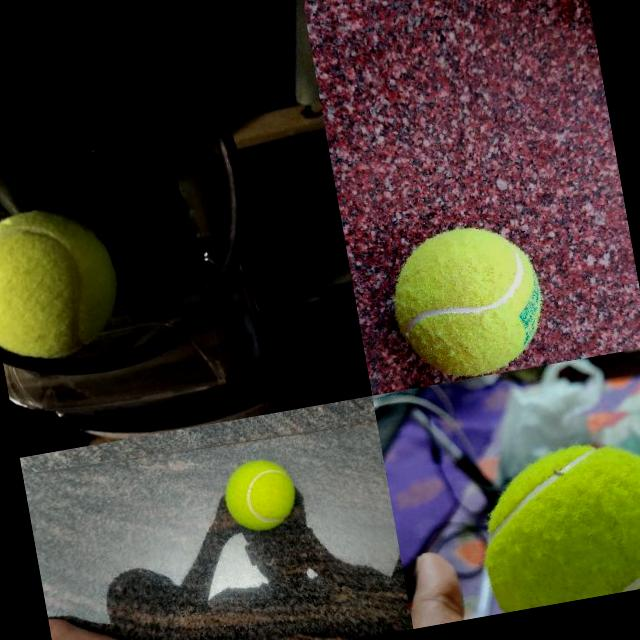tennis-ball: (464, 426, 640, 614), (382, 216, 552, 384), (0, 195, 131, 368), (219, 454, 300, 534)
